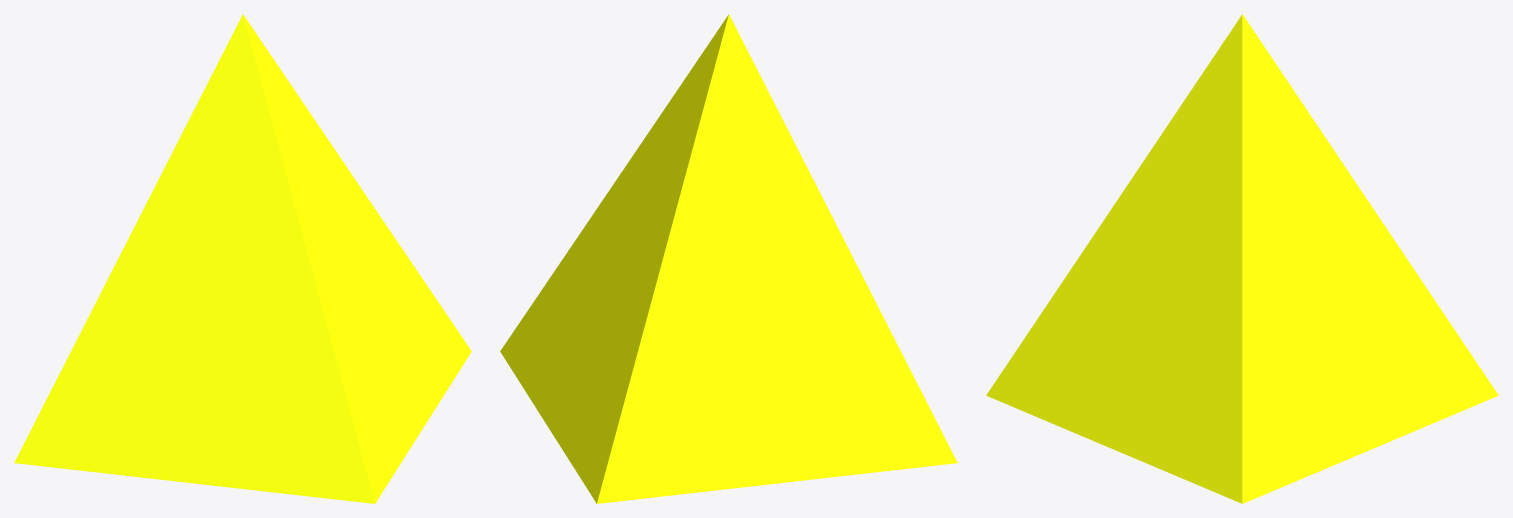
The model's file is BasePyramid.003.glb.
3 renders of one model, left to right at view 1: azimuth 30°, elevation 25°; view 2: azimuth 150°, elevation 25°; view 3: azimuth 270°, elevation 25°, orthographic. The views are drawn at different scales.
Parts seen in each view (by area): view 1: BasePyramid.003; view 2: BasePyramid.003; view 3: BasePyramid.003.
Boxes of the visible parts, box(x1,y1,x2,y2) form: BasePyramid.003: box(14, 14, 471, 503); BasePyramid.003: box(500, 14, 957, 503); BasePyramid.003: box(986, 14, 1498, 503).
Size of what is drawn, in the model's own units: 0.9142 by 0.7506 by 0.9142.
Materials: 1 (1 with a texture image).
